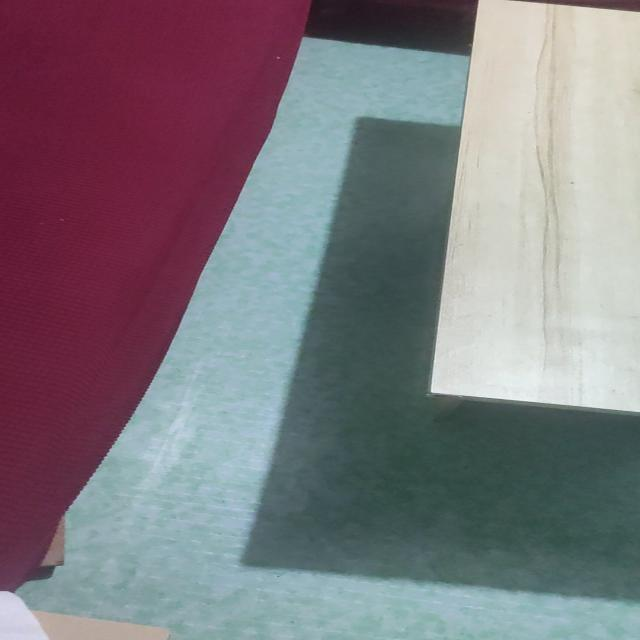table: (401, 0, 640, 432)
